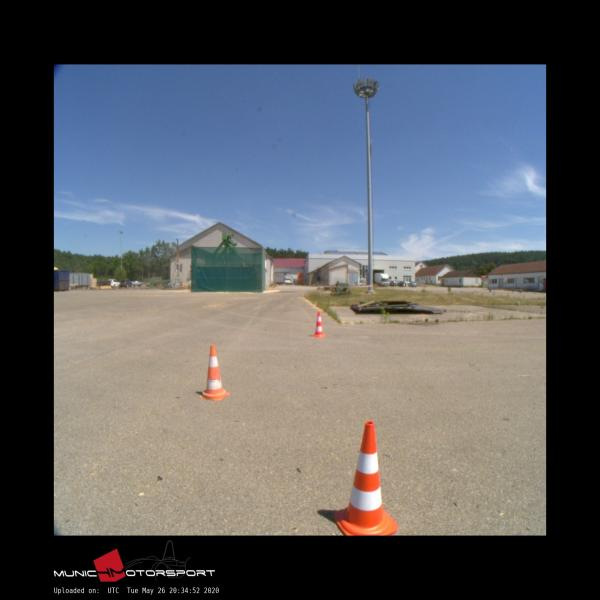large_orange_cone: (334, 423, 398, 535), (199, 345, 230, 399), (313, 312, 325, 337)
